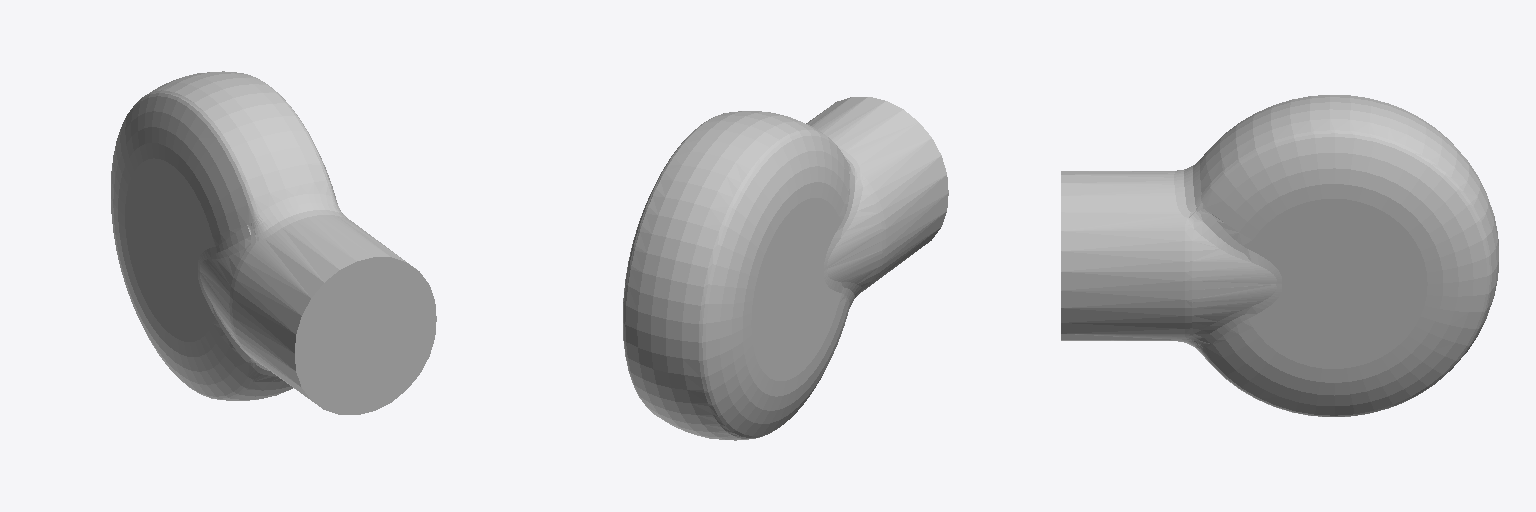
Rendered from arm_right_6.obj.
The picture shows the model from 3 angles: view 1: azimuth 30°, elevation 25°; view 2: azimuth 150°, elevation 25°; view 3: azimuth 270°, elevation 25°; orthographic projection.
Parts seen in each view (by area): view 1: arm_right_6; view 2: arm_right_6; view 3: arm_right_6.
Part boxes in pixels (bbox=[...]): arm_right_6: bbox=[111, 71, 436, 414]; arm_right_6: bbox=[623, 97, 948, 440]; arm_right_6: bbox=[1061, 95, 1498, 416].
Bounding box in the file's own units: 0.041 × 0.0828 × 0.1096.